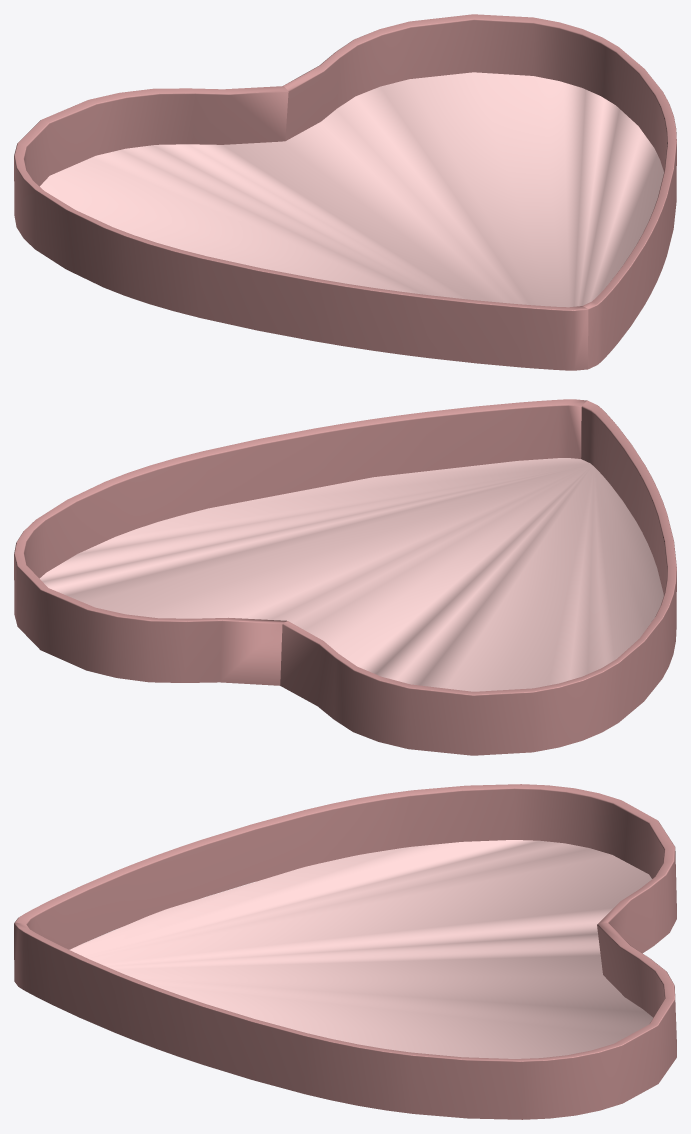
The model's file is heart.fbx.
3 views of the same model, one above another, from view 1: azimuth 30°, elevation 25°; view 2: azimuth 150°, elevation 25°; view 3: azimuth 270°, elevation 25° (orthographic). The views are drawn at different scales.
Visible parts, largest first — view 1: Table_Heart.001, Table_Heart.002, Table_Heart; view 2: Table_Heart.001, Table_Heart, Table_Heart.002; view 3: Table_Heart.001, Table_Heart, Table_Heart.002.
Part boxes in pixels (x1,y1,x2,y2): Table_Heart.001: [40, 72, 663, 307]; Table_Heart.002: [14, 86, 588, 370]; Table_Heart: [283, 14, 676, 369]; Table_Heart.001: [39, 458, 663, 691]; Table_Heart: [14, 399, 587, 685]; Table_Heart.002: [280, 400, 676, 755]; Table_Heart.001: [69, 840, 652, 1058]; Table_Heart: [14, 922, 676, 1119]; Table_Heart.002: [14, 784, 676, 953].
Bounding box in the file's own units: 944 × 93.52 × 954.
